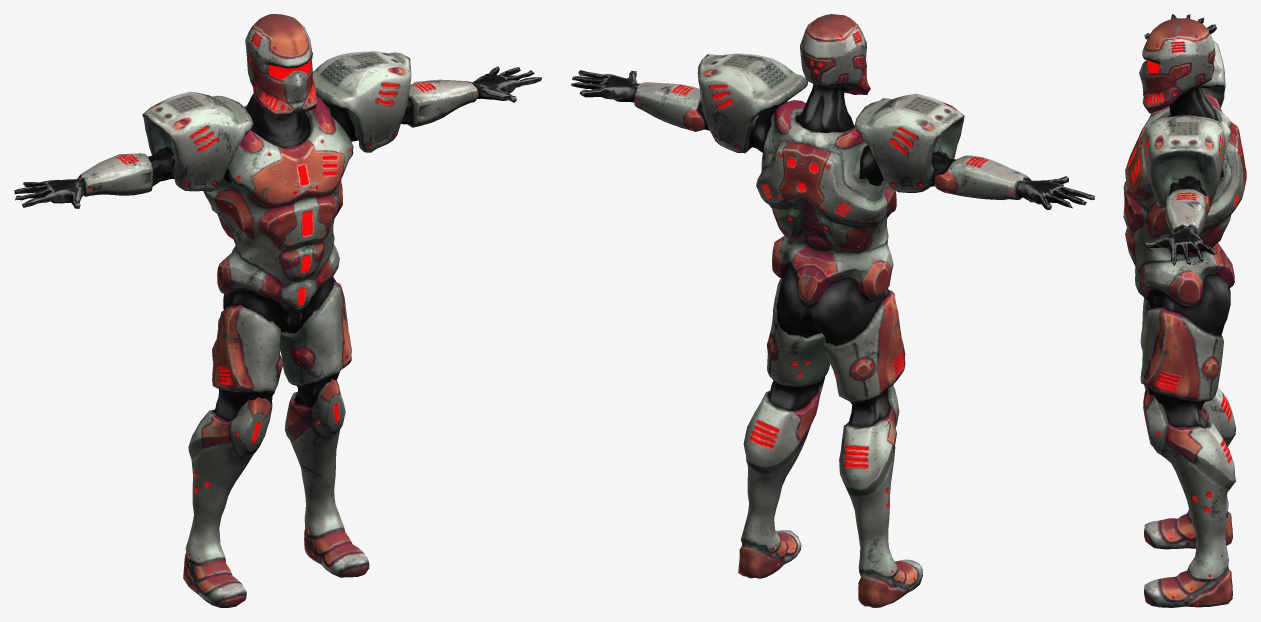
The model's file is Soldado_Heavy.fbx.
3 views of the same model, side by side, from view 1: azimuth 30°, elevation 25°; view 2: azimuth 150°, elevation 25°; view 3: azimuth 270°, elevation 25° (orthographic). The views are drawn at different scales.
Parts seen in each view (by area): view 1: Soldado_Heavy; view 2: Soldado_Heavy; view 3: Soldado_Heavy.
Boxes of the visible parts, x1=… form: Soldado_Heavy: x1=14, y1=14, x2=542, y2=607; Soldado_Heavy: x1=571, y1=14, x2=1094, y2=607; Soldado_Heavy: x1=1123, y1=14, x2=1246, y2=607.
Size of the model in its own units: 16.03 by 16.54 by 3.35.
